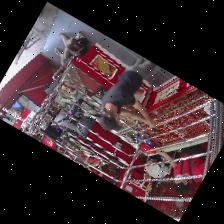person: (100, 57, 158, 130), (170, 156, 205, 176), (88, 167, 103, 177)
